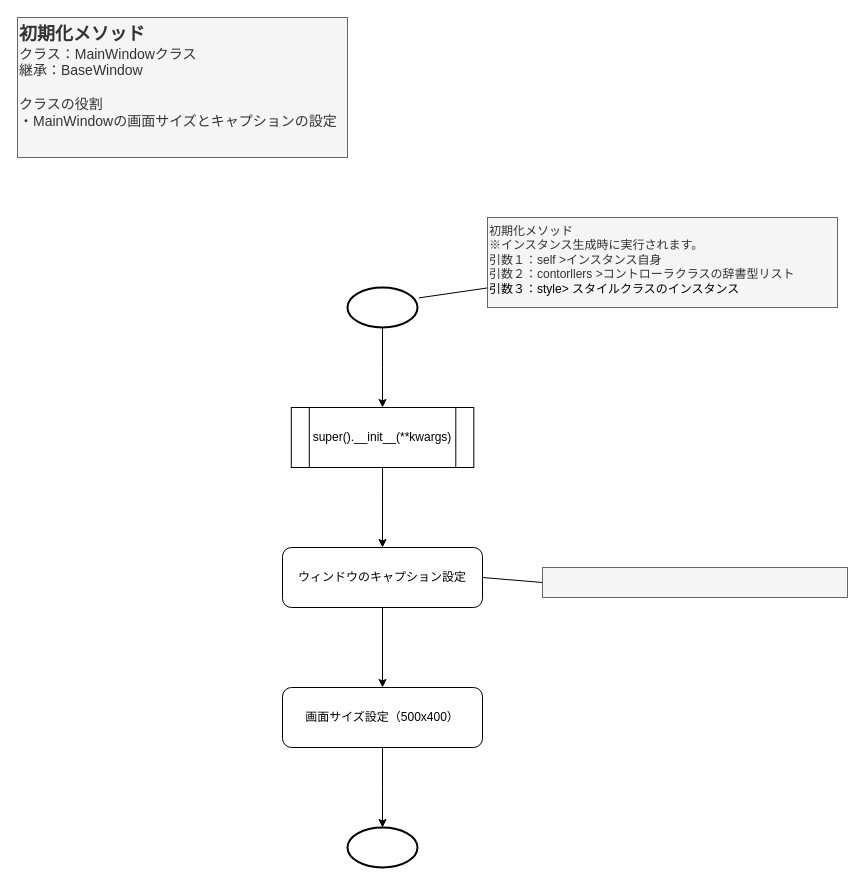
This 865x886 diagram has some shape labels left out. Each missing label, with the box of its shape:
self.title属性に"MVC with Page Navigation"を代入: (542, 566, 848, 598)
終了: (346, 826, 418, 868)
開始: (346, 286, 418, 328)
